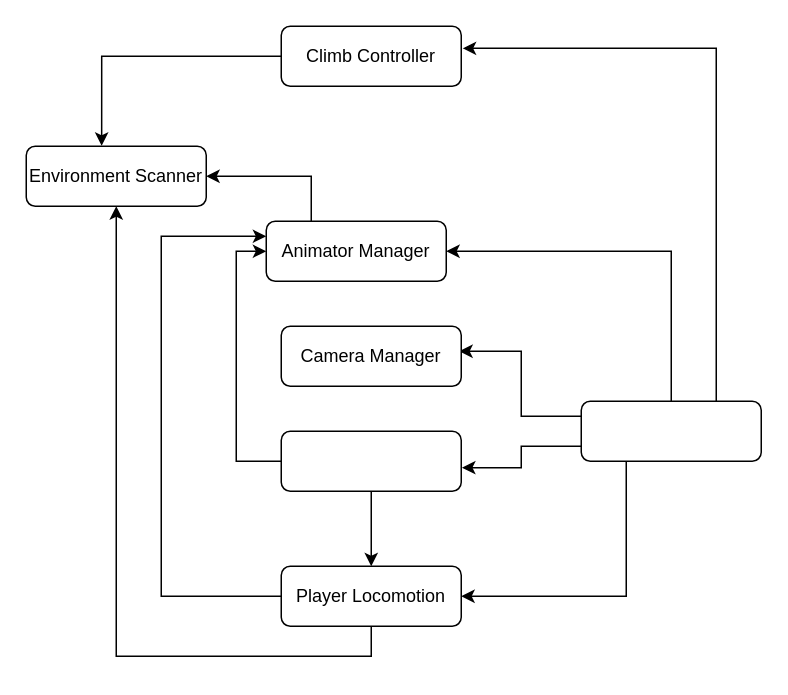
This 788x695 diagram has some shape labels left out. The shapes that lost their labels are listed below. From the top down, each one's centre as x and y in pixels, then its label:
point 670,430: Player Manager
point 370,460: Input Manager
